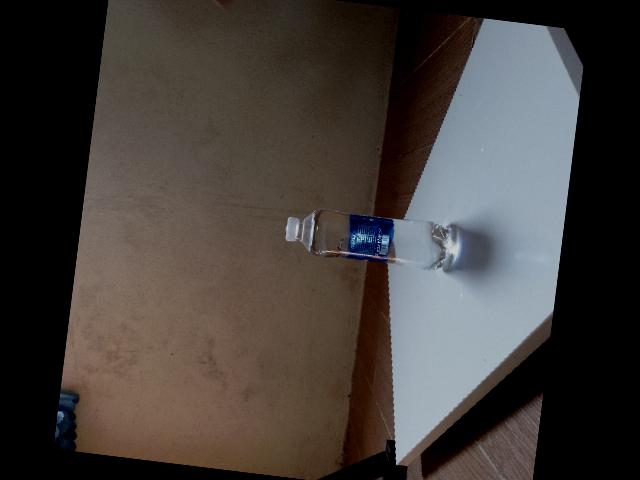aquafina: (285, 208, 451, 269)
